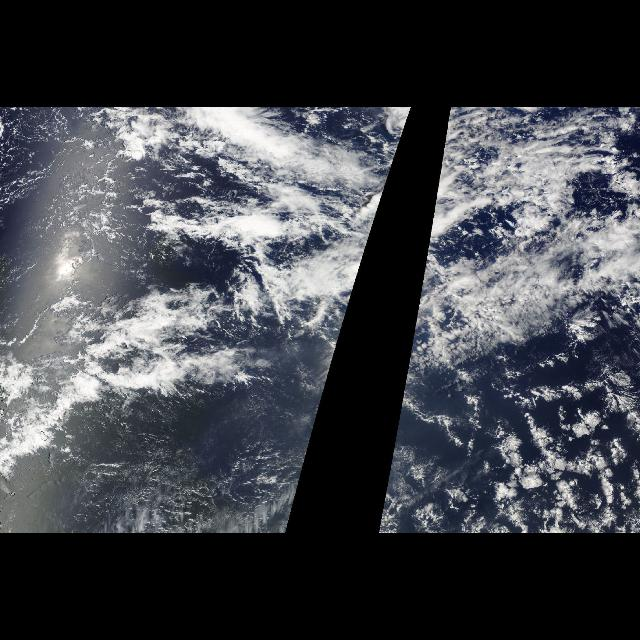Flower: (432, 366, 640, 534)
Gravel: (0, 108, 140, 264)
Sugar: (80, 420, 286, 532)
